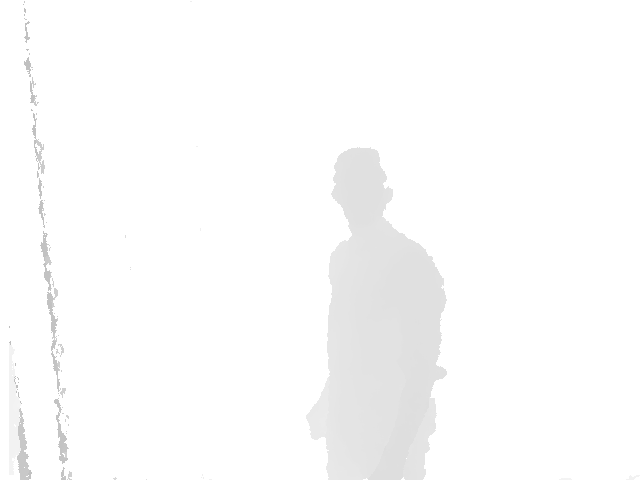head: (331, 146, 394, 225)
person: (305, 146, 449, 480)
